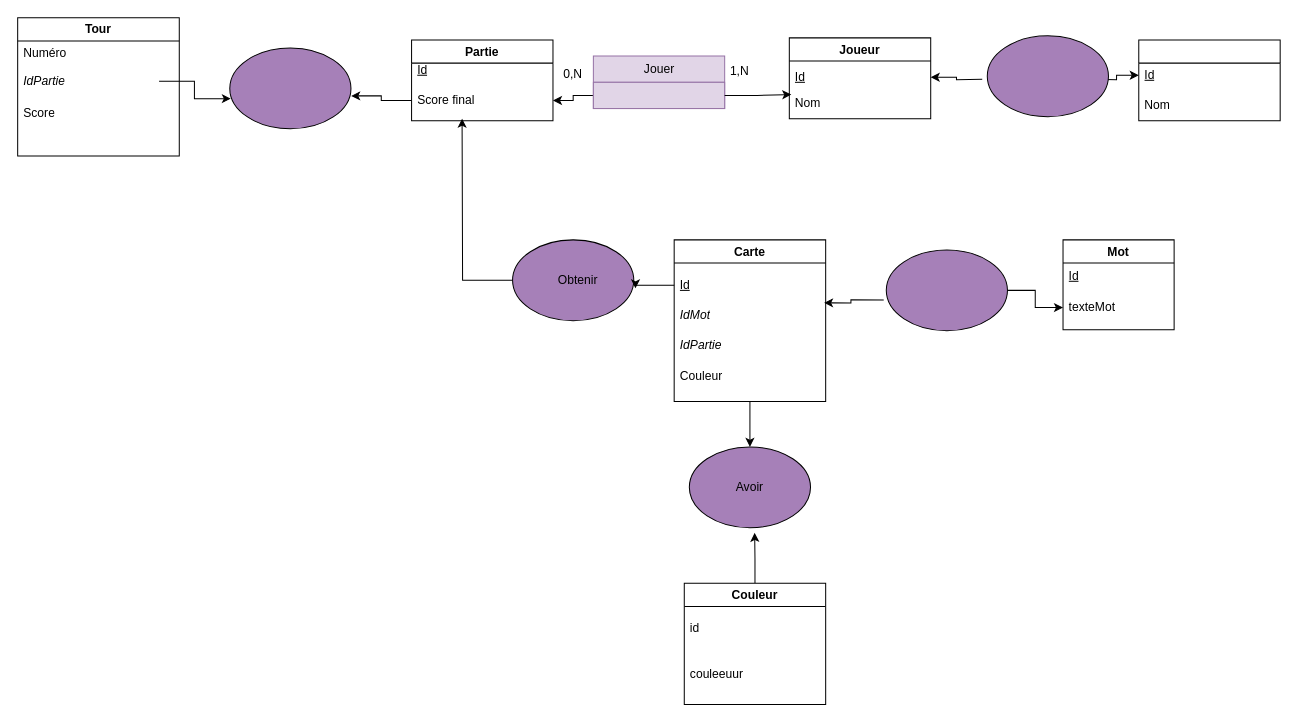
This 1298x722 diagram has some shape labels left out. Here are the shapes that lost their labels. From the top down, the box of each, then its label:
(229, 47, 351, 129): Appartenir
(592, 81, 725, 109): ( IdPartie , IdJoueur)
(986, 35, 1108, 117): Attribuer
(1138, 39, 1280, 121): Role
(885, 249, 1007, 331): Contenir
